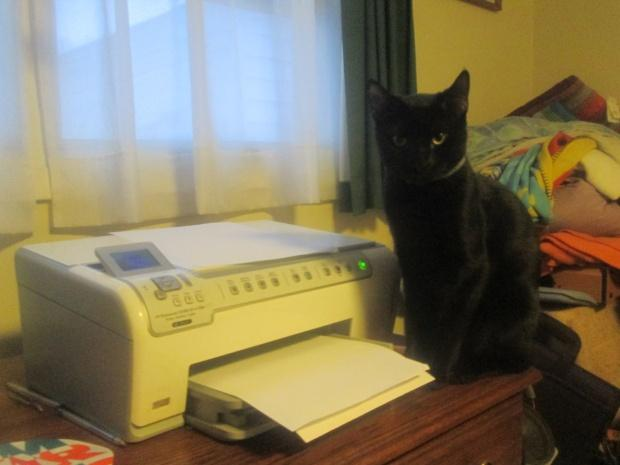Printer: (13, 216, 436, 445)
